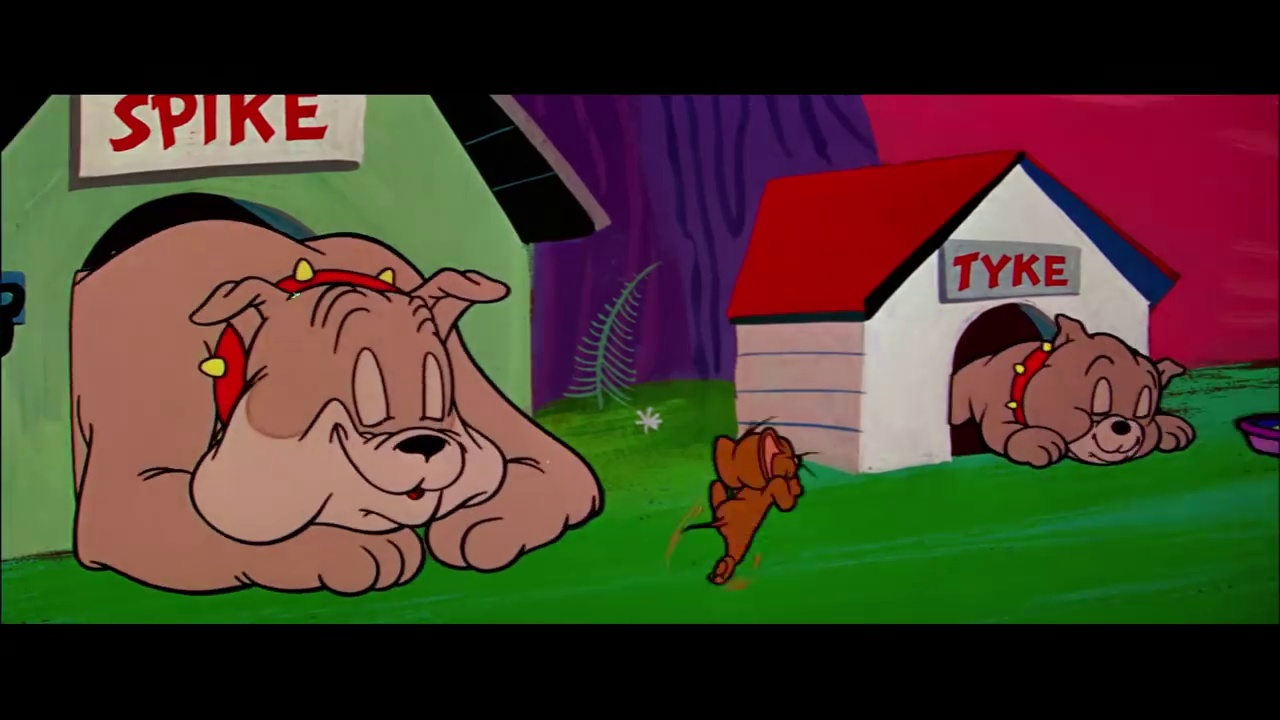spike: (188, 257, 515, 550)
